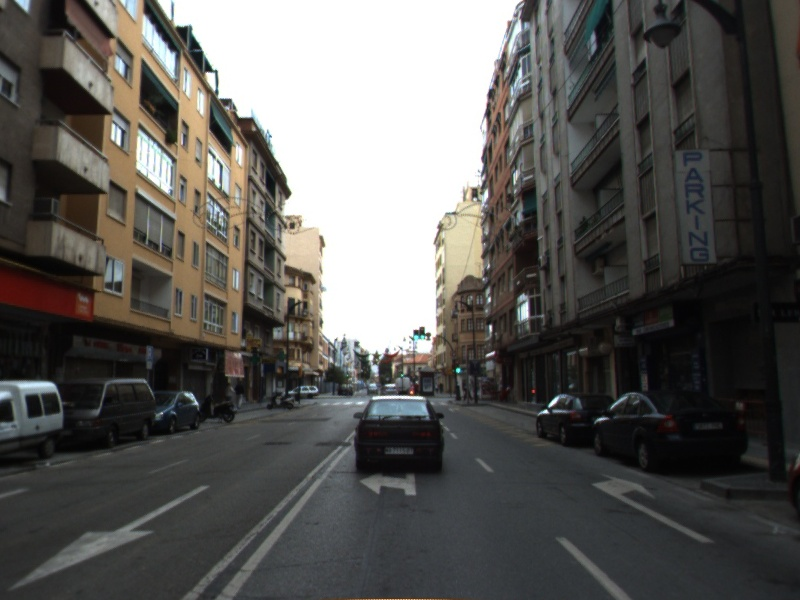RIGHT: (590, 472, 717, 544)
STRAIGHT_LEFT: (358, 470, 418, 497)
